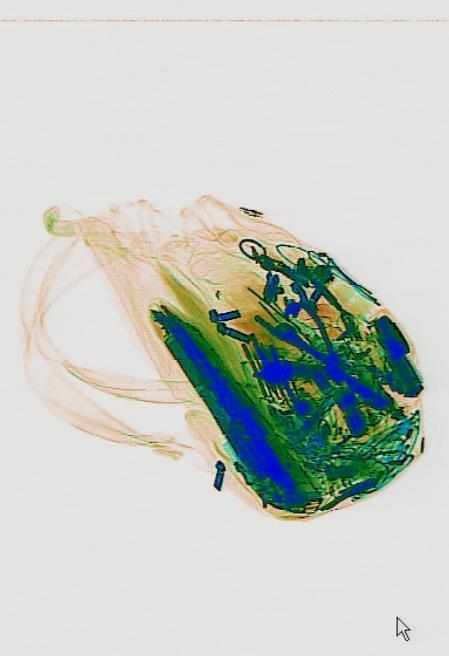Pliers: (252, 264, 374, 416)
